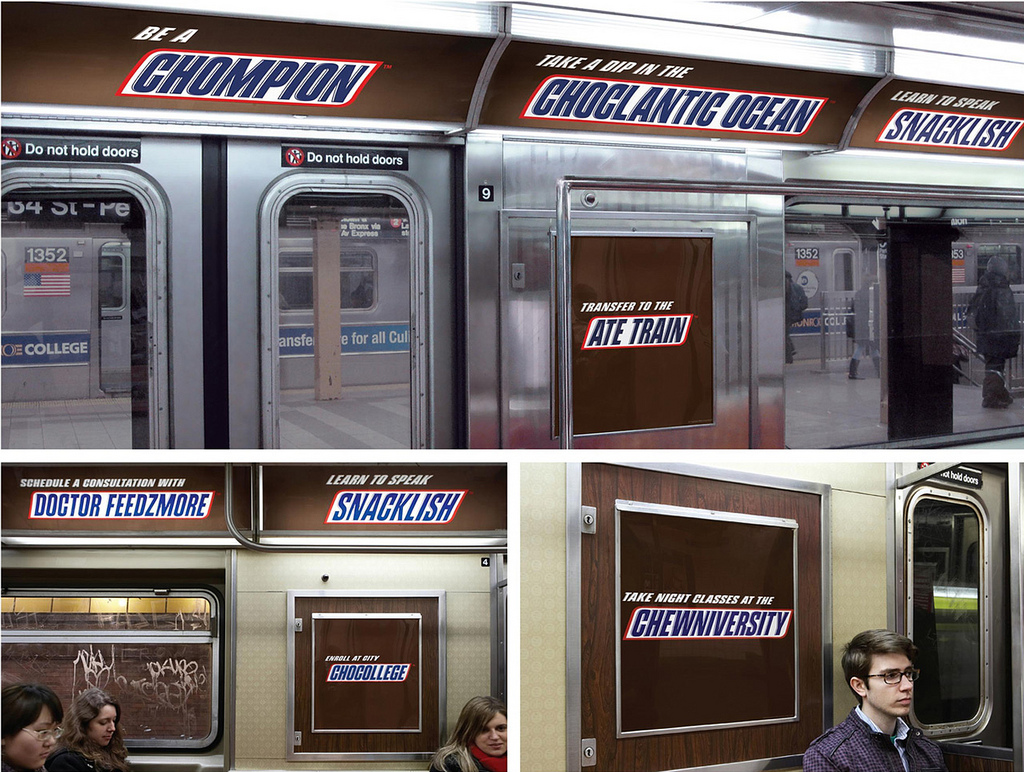snickers: (883, 103, 1021, 145), (330, 493, 463, 518), (882, 123, 1021, 145), (330, 664, 408, 679)
